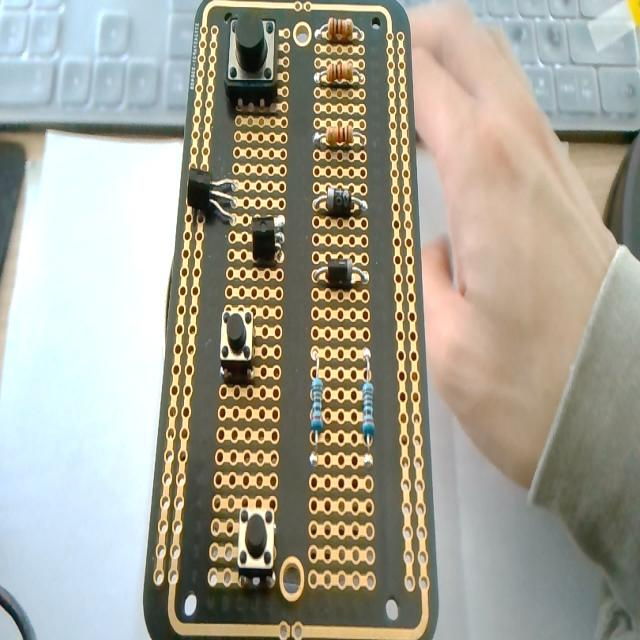diode: (308, 179, 374, 233), (308, 254, 376, 302)
resistor: (352, 338, 382, 470), (307, 56, 371, 98), (307, 332, 327, 462), (306, 122, 374, 156), (310, 16, 370, 49)
switch: (226, 6, 280, 102), (234, 492, 282, 584), (214, 304, 254, 375)
transistor: (182, 164, 245, 234), (248, 190, 293, 272)
